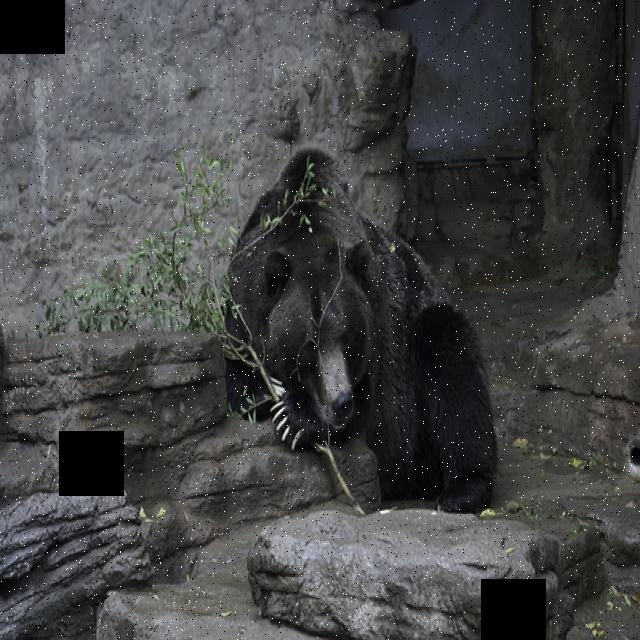Bear: (213, 144, 504, 511)
